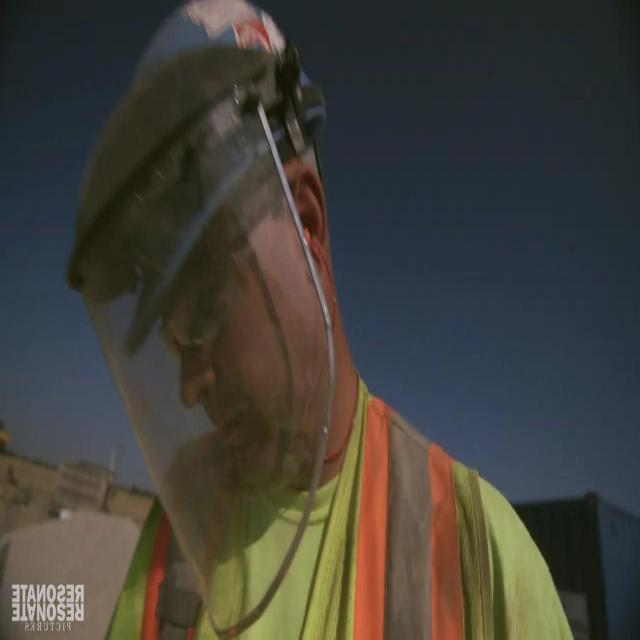Reflective-Jacket: (86, 396, 587, 638)
Safety-Helmet: (58, 0, 356, 491)
